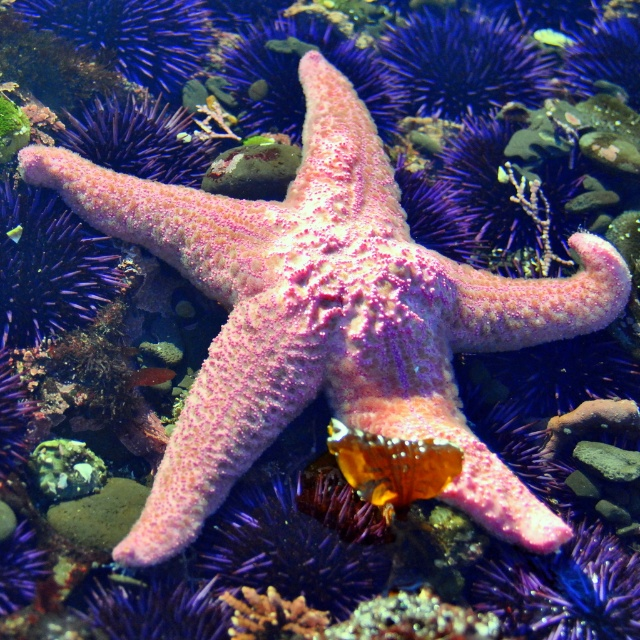Starfish: (17, 49, 631, 568)
